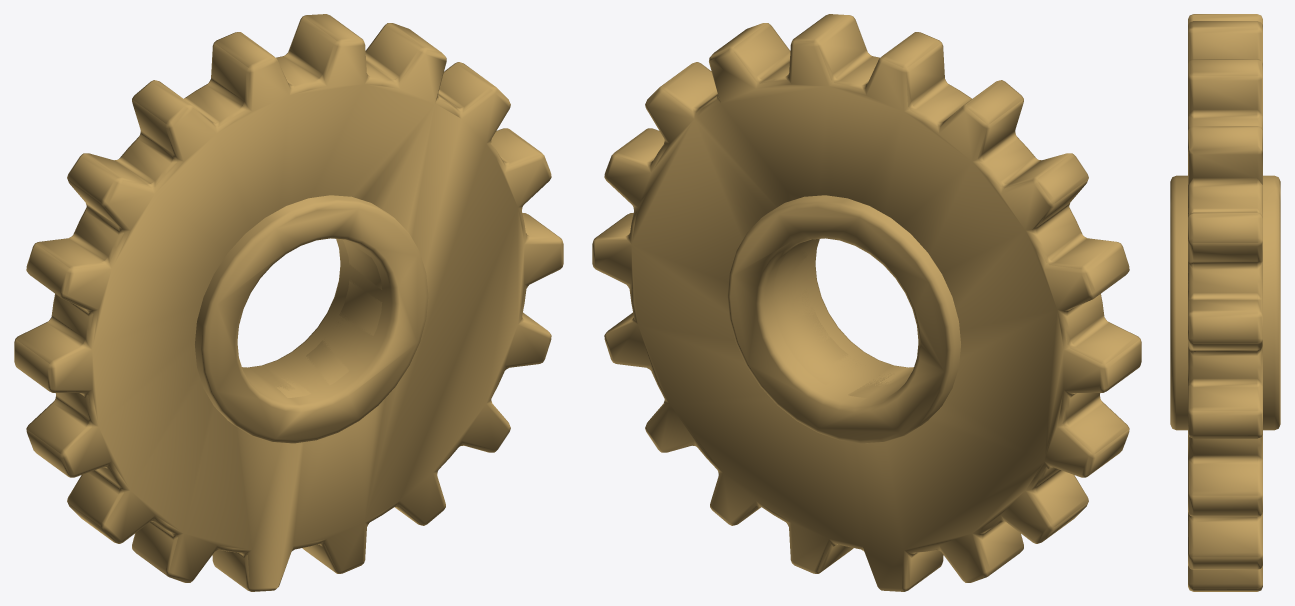
File: gear.glb
3 renders of one model, left to right at view 1: azimuth 30°, elevation 25°; view 2: azimuth 150°, elevation 25°; view 3: azimuth 270°, elevation 25°, orthographic. The views are drawn at different scales.
Parts seen in each view (by area): view 1: Gear; view 2: Gear; view 3: Gear.
Part boxes in pixels (x1,y1,x2,y2): Gear: (14, 14, 563, 591); Gear: (592, 14, 1141, 591); Gear: (1170, 14, 1280, 591).
Bounding box in the file's own units: 2 × 1.98 × 0.38.
